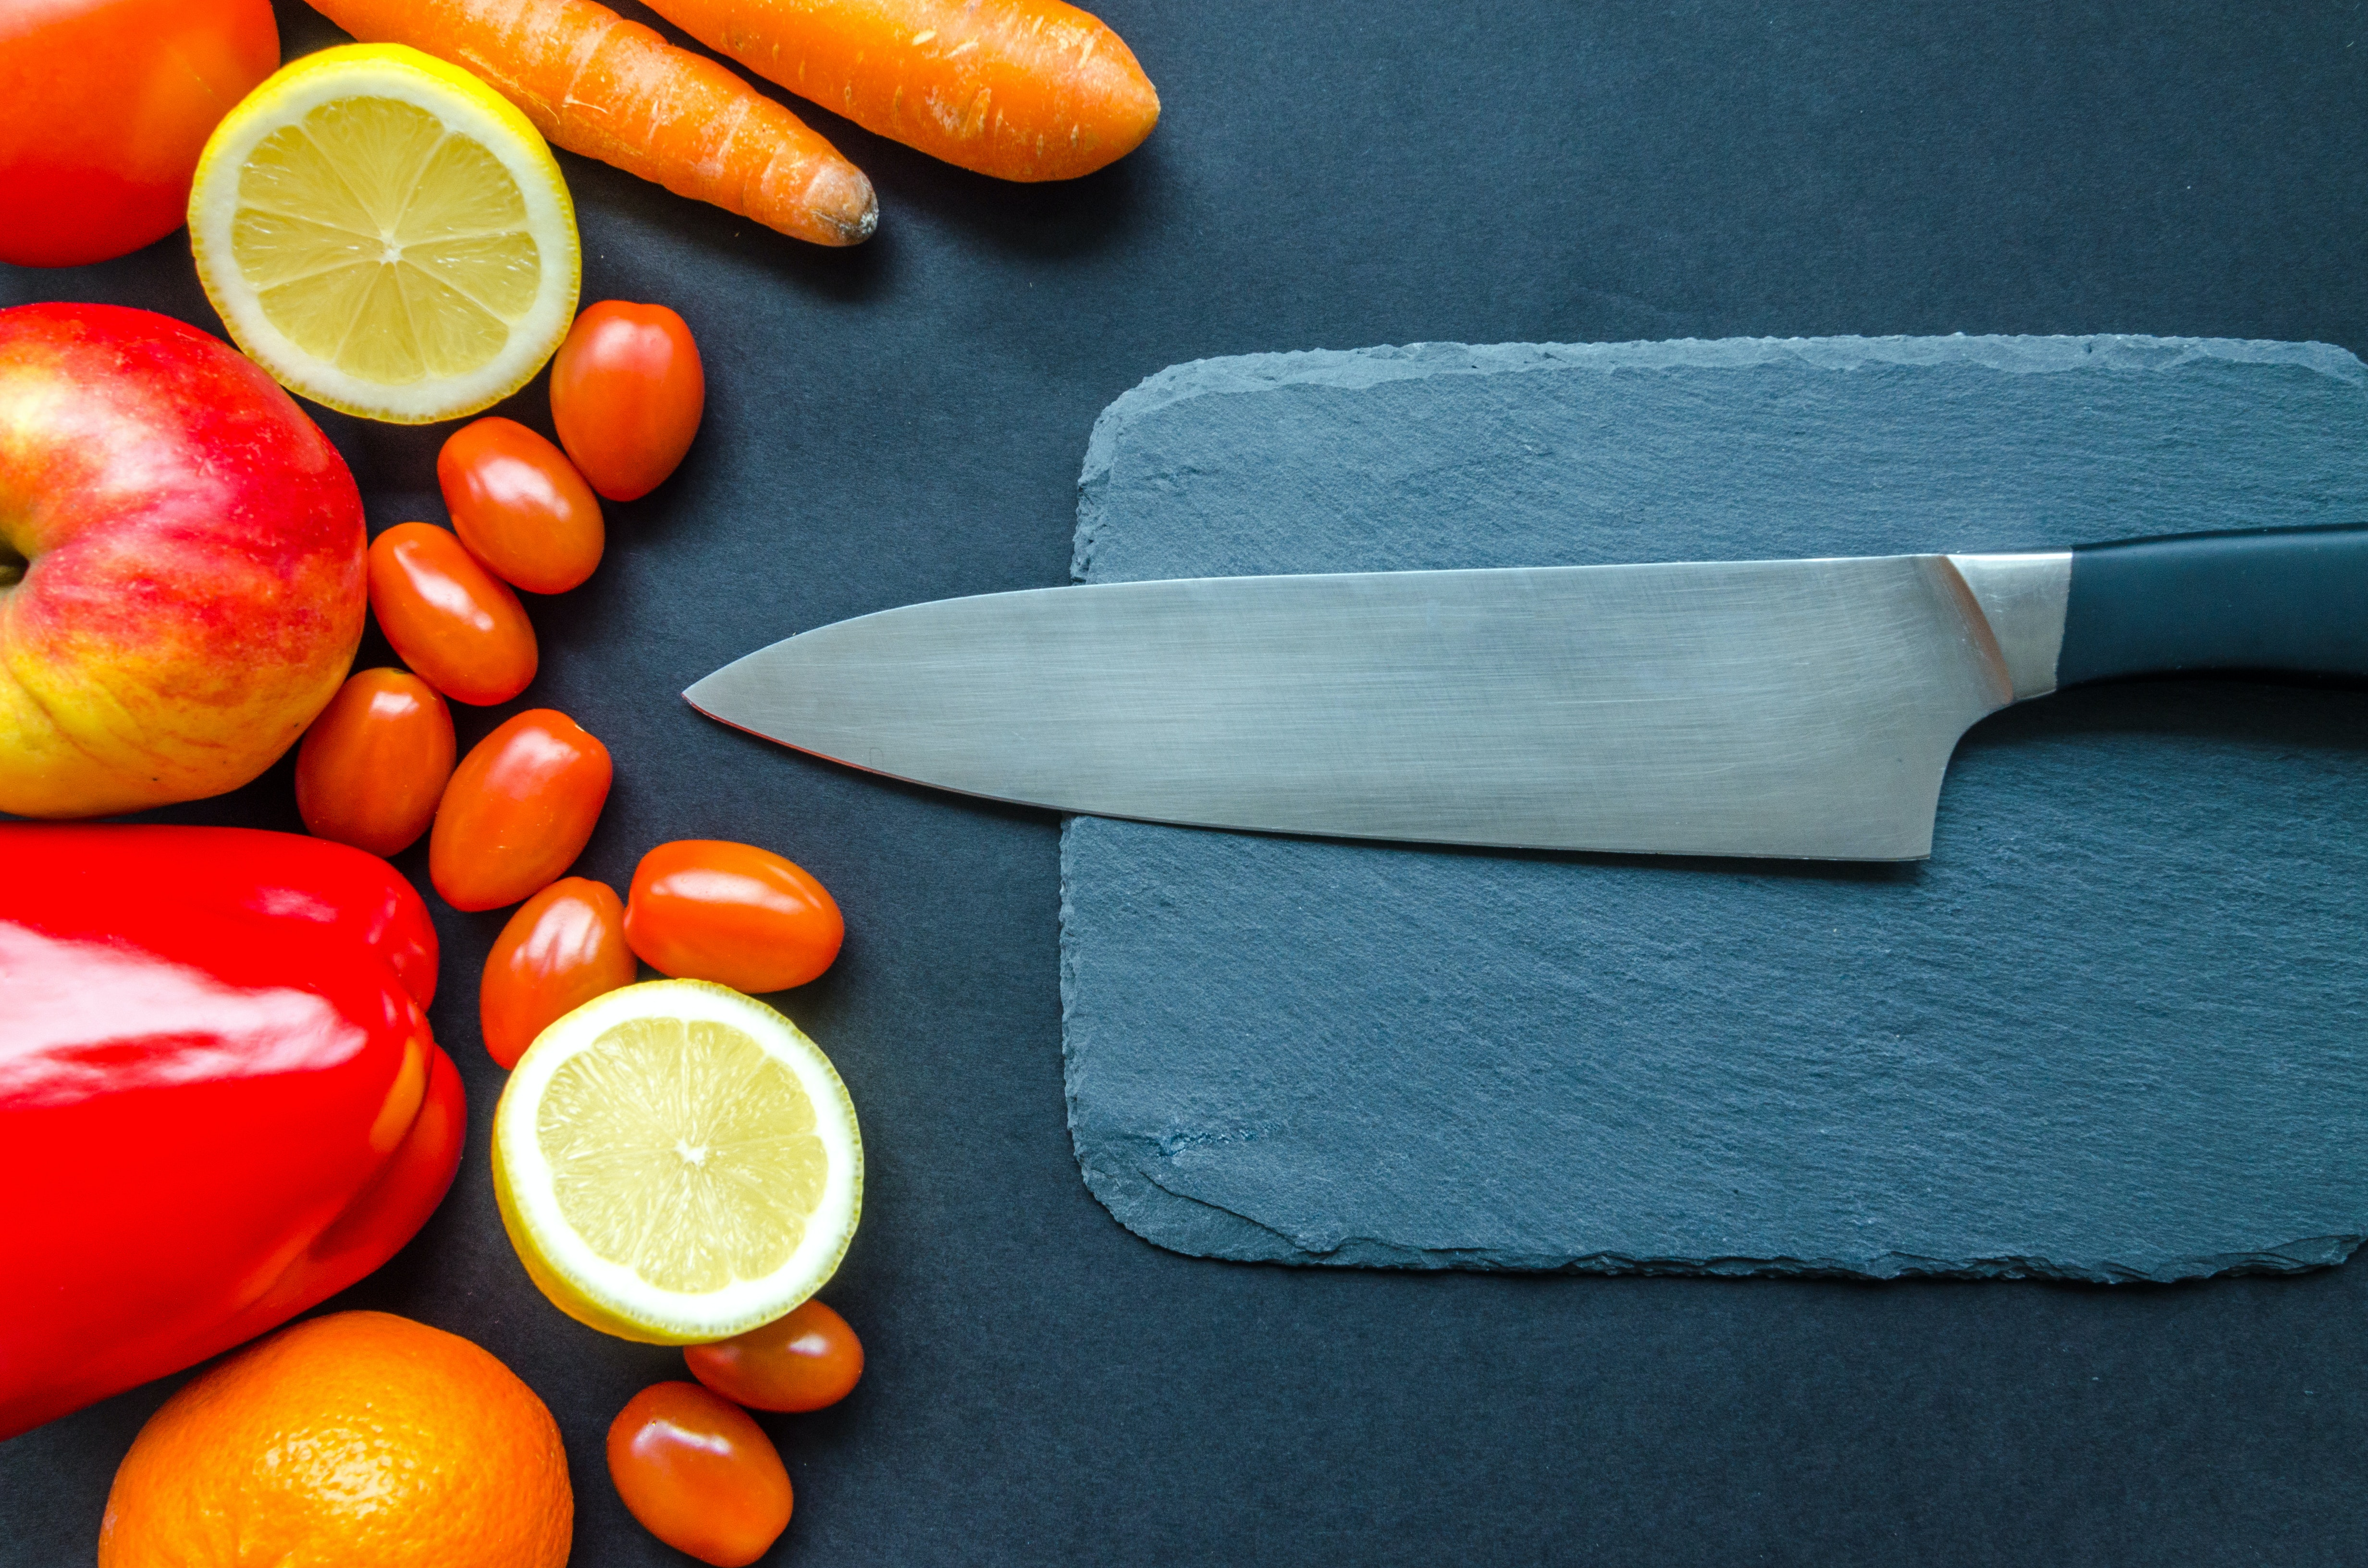knife: (669, 516, 2368, 877)
